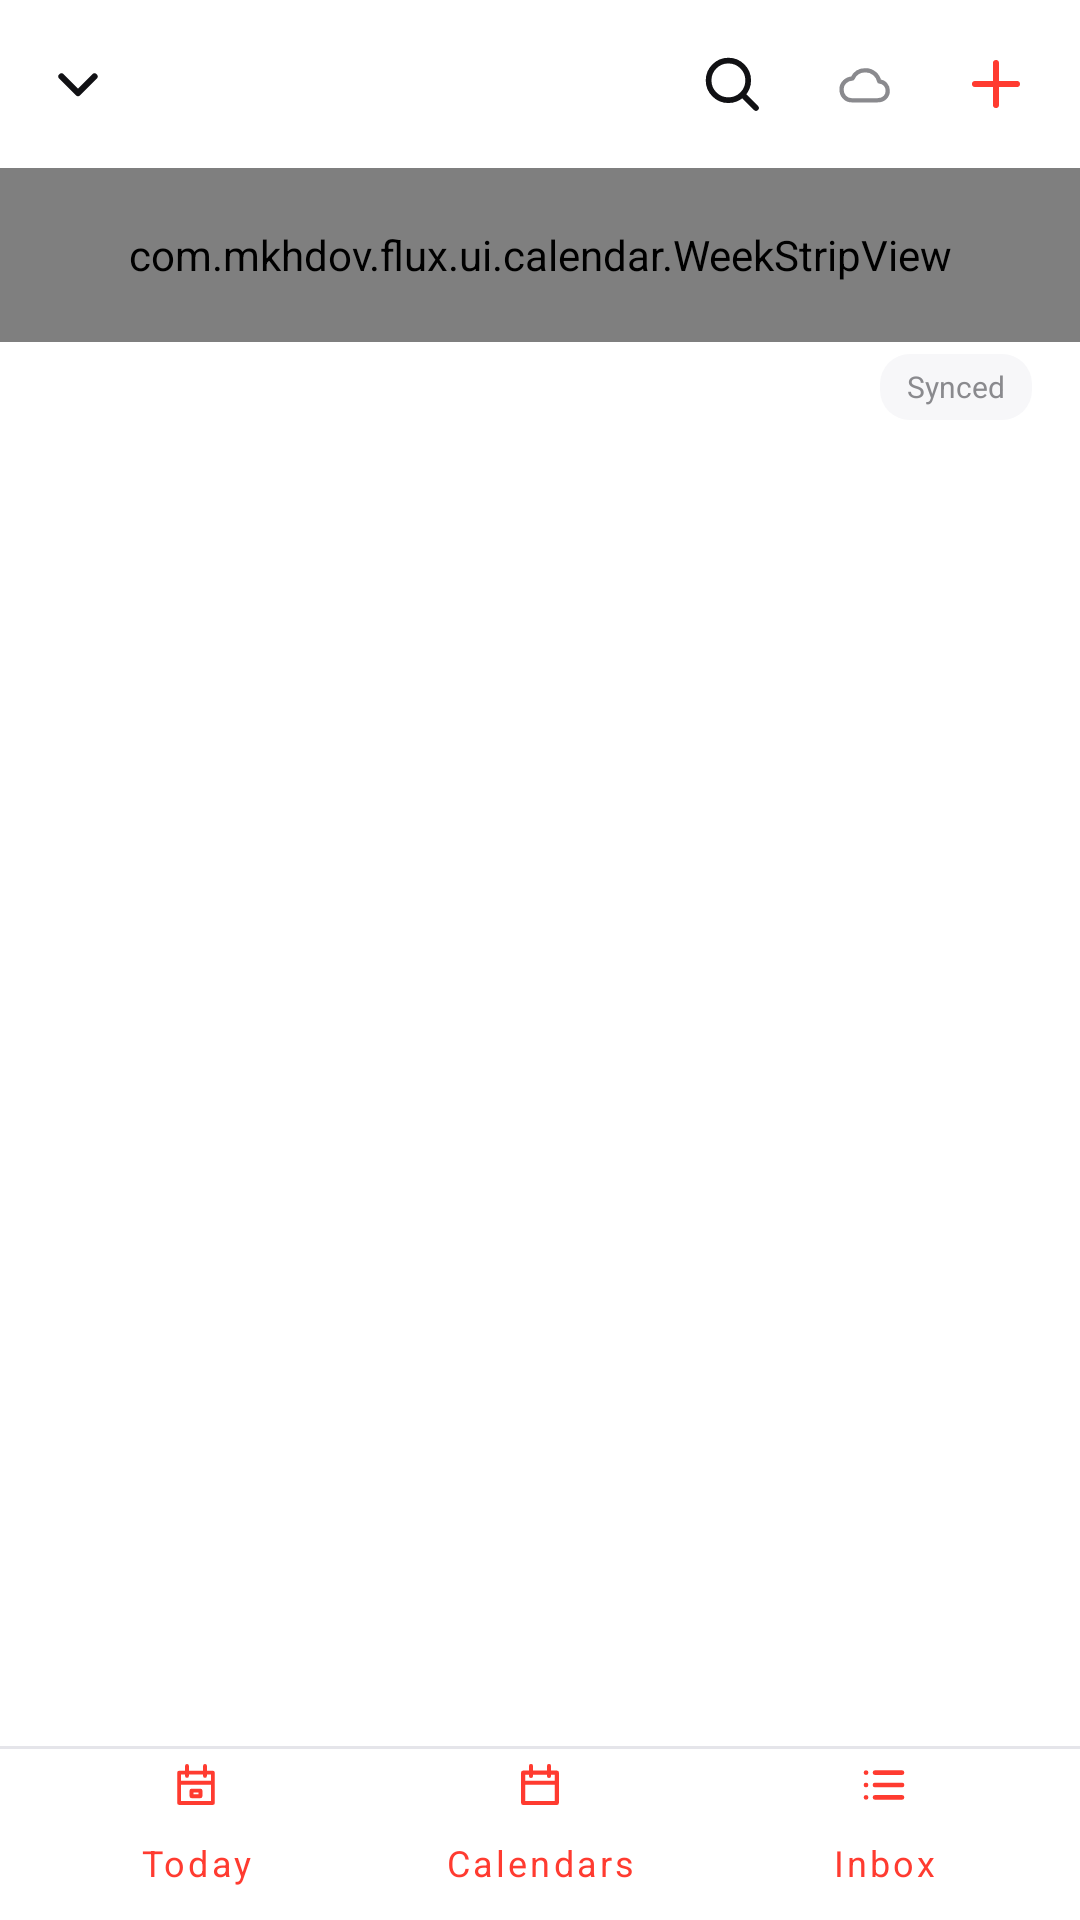

Icon bounding boxes for this 1080 x 1920 phone screenshot, format box=[x1, y1, x2, y2]:
New event: box=[972, 60, 1020, 108]
Search: box=[705, 57, 759, 111]
Sync & diagnostics: box=[839, 68, 890, 103]
